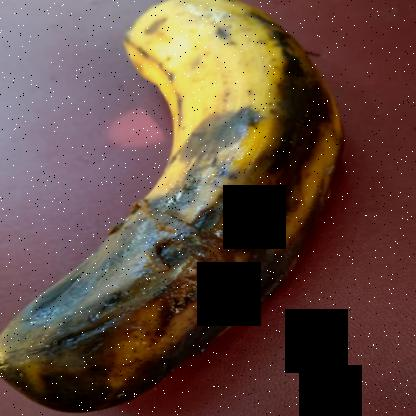rotten: (0, 4, 349, 414)
